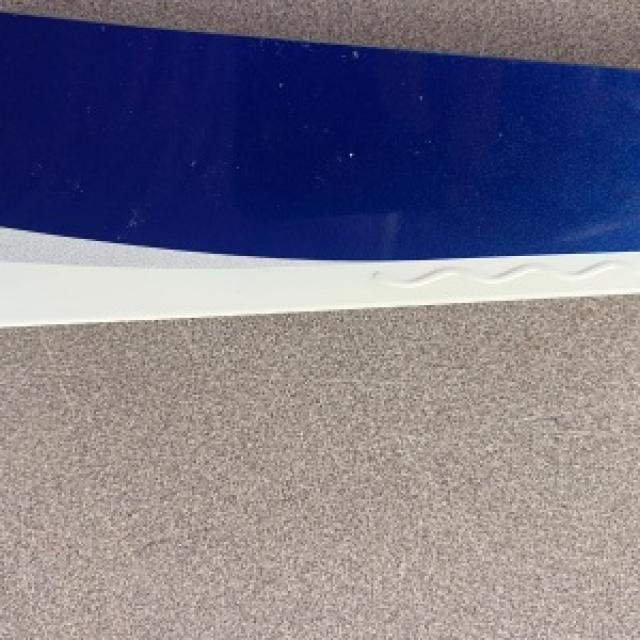healthy: (0, 11, 638, 324)
